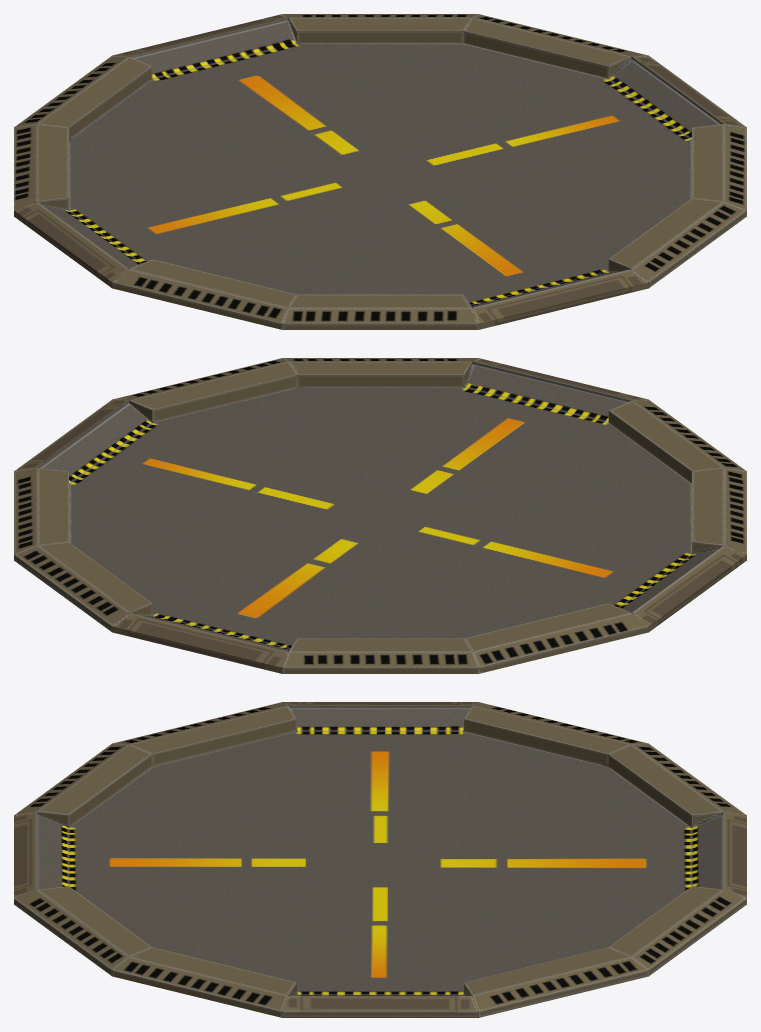
Rendered from landingpad.obj.
3 renders of one model, top to bottom at view 1: azimuth 30°, elevation 25°; view 2: azimuth 150°, elevation 25°; view 3: azimuth 270°, elevation 25°, orthographic.
Parts seen in each view (by area): view 1: obj.landingPad.000_landingPad; view 2: obj.landingPad.000_landingPad; view 3: obj.landingPad.000_landingPad.
Boxes of the visible parts, box(x1,y1,x2,y2) form: obj.landingPad.000_landingPad: box(14, 14, 746, 329); obj.landingPad.000_landingPad: box(14, 358, 746, 673); obj.landingPad.000_landingPad: box(14, 702, 746, 1017).
Bounding box in the file's own units: 17.04 × 0.3153 × 17.04.
